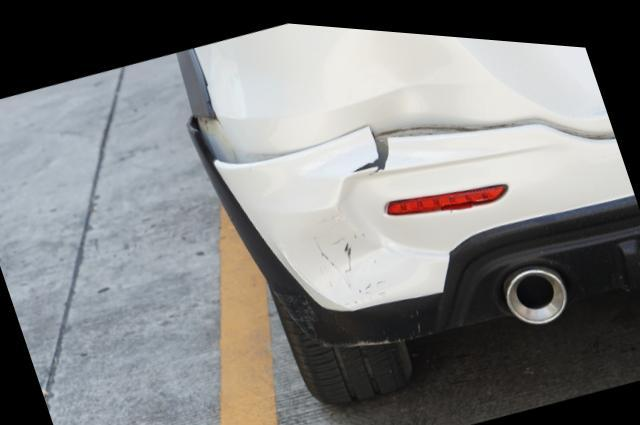crack: (350, 129, 388, 167)
dent: (279, 177, 416, 297), (316, 23, 467, 120)
